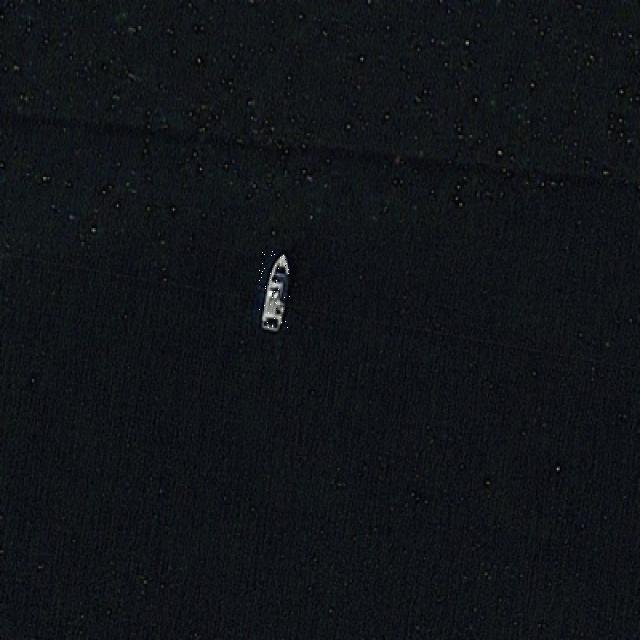boat: (259, 251, 290, 333)
